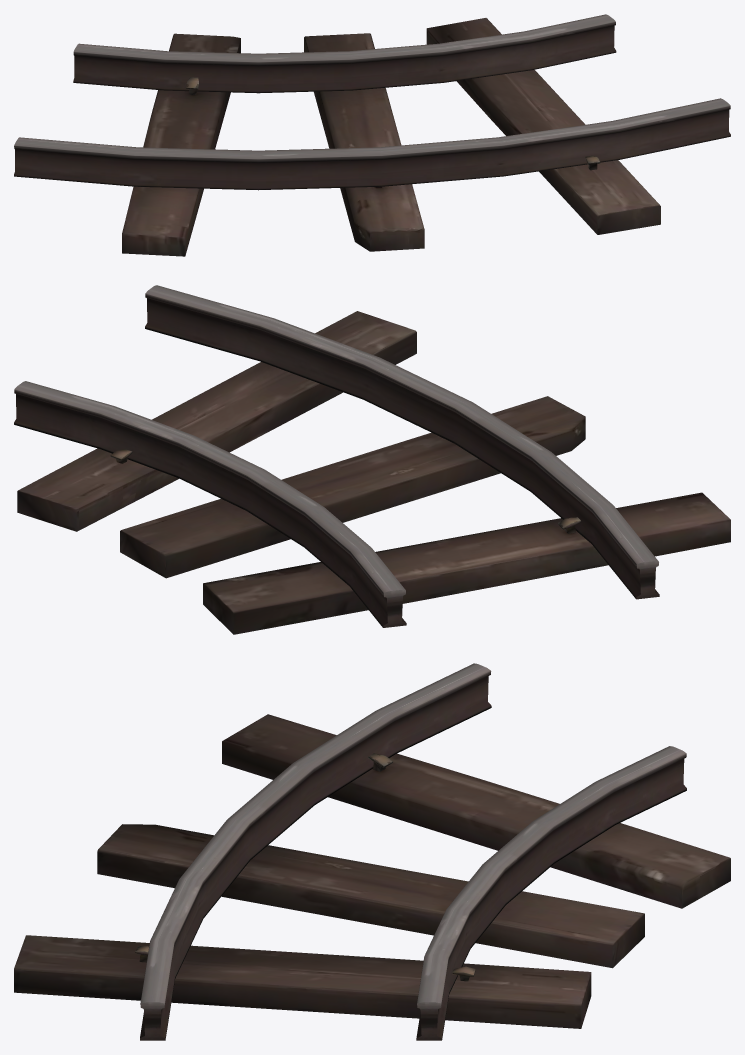
The picture shows the model from 3 angles, top to bottom: view 1: azimuth 30°, elevation 25°; view 2: azimuth 150°, elevation 25°; view 3: azimuth 270°, elevation 25°; orthographic projection. The views are drawn at different scales.
Visible parts, largest first — view 1: body0_model0_lod0_mesh0; view 2: body0_model0_lod0_mesh0; view 3: body0_model0_lod0_mesh0.
Boxes of the visible parts, bbox=[...] form: body0_model0_lod0_mesh0: bbox=[14, 14, 730, 256]; body0_model0_lod0_mesh0: bbox=[14, 285, 730, 634]; body0_model0_lod0_mesh0: bbox=[14, 663, 730, 1040].
Bounding box in the file's own units: 78.26 × 6.69 × 69.68.
1 material, 1 textured.
